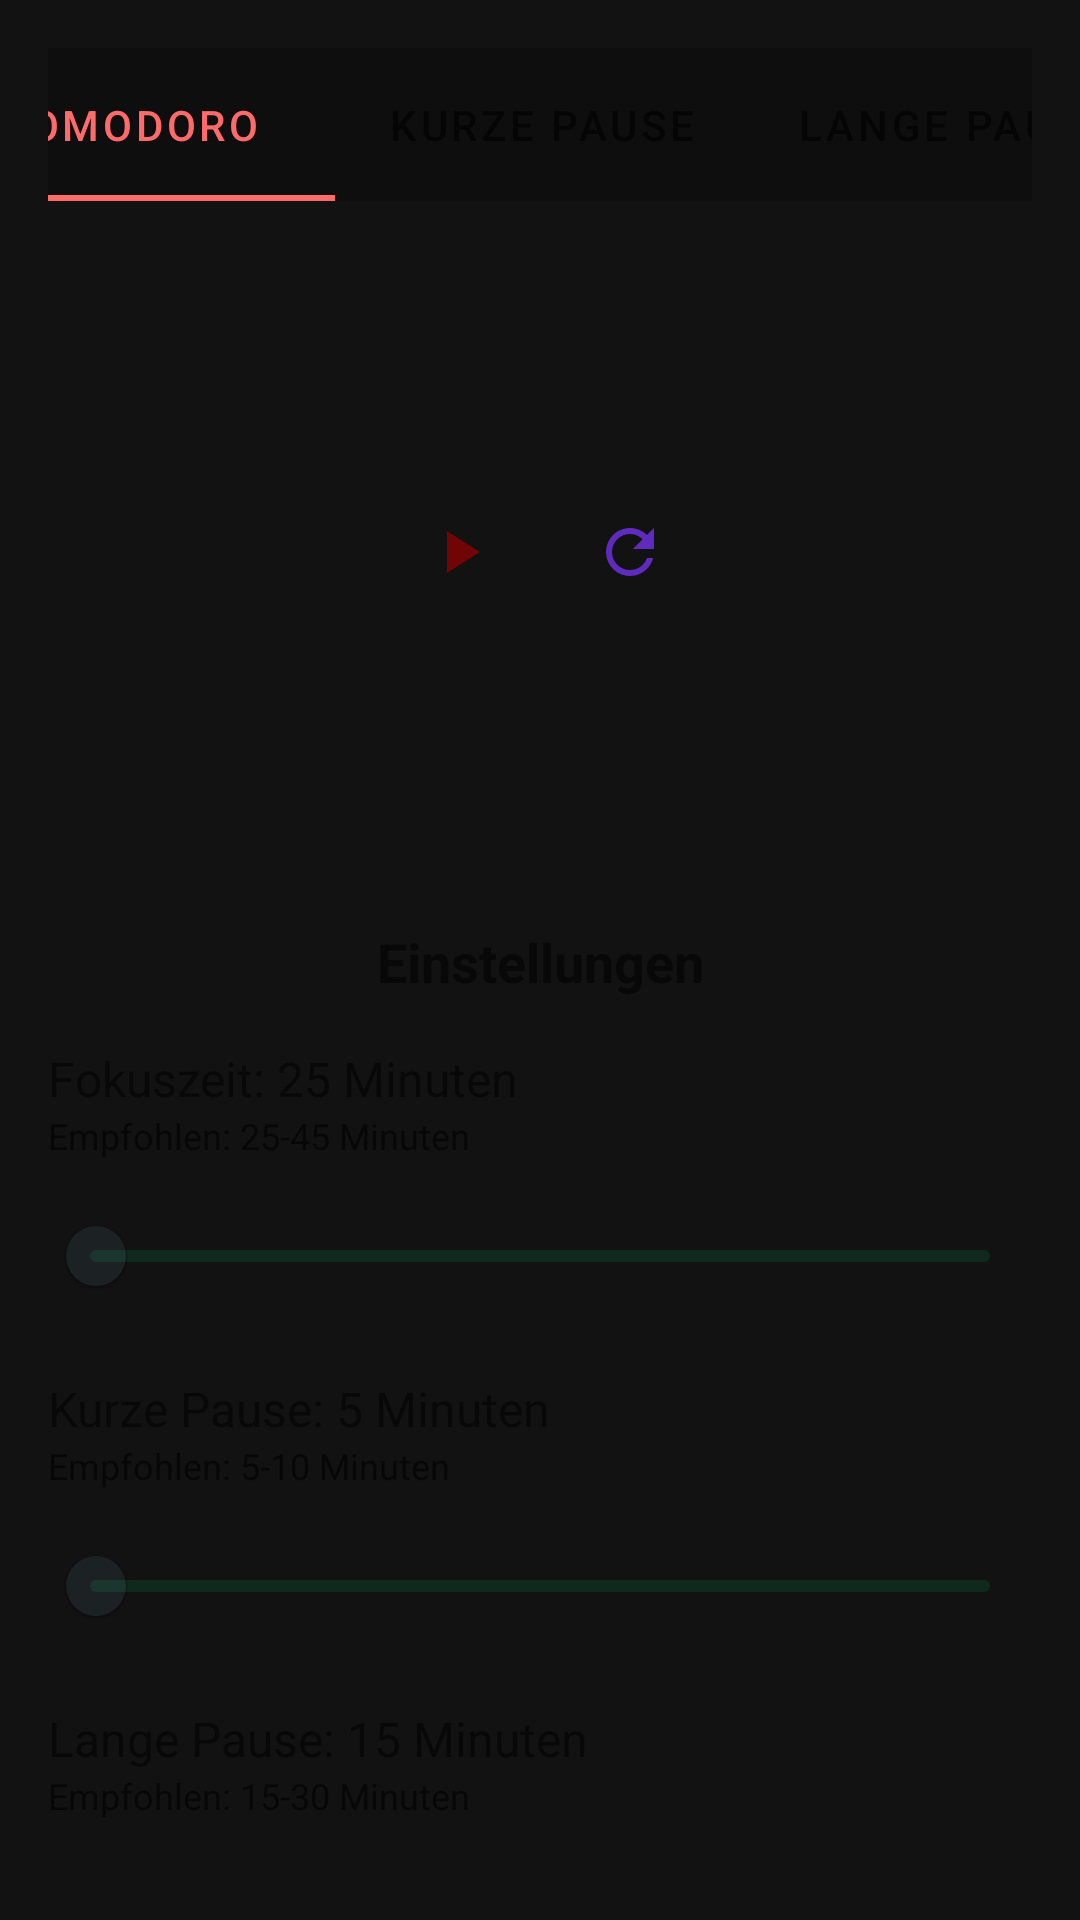

Where icons sit on this 1080w x 1920h app screen, as [x1=x1, y1=y1, x2=x2, y2=y2]:
Timer starten: [x1=447, y1=531, x2=480, y2=573]
Timer zurücksetzen: [x1=606, y1=528, x2=654, y2=576]
